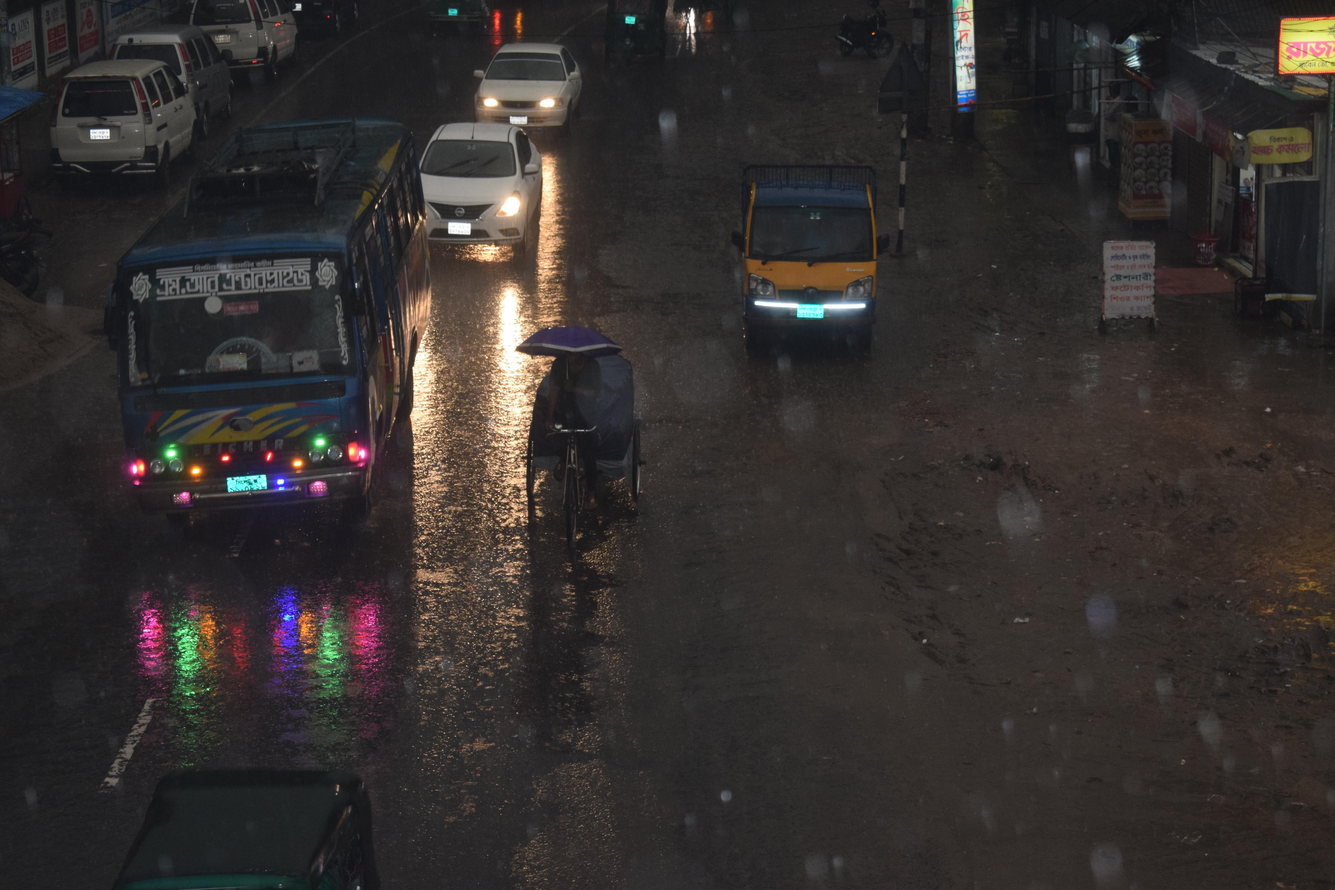Bus: (79, 104, 435, 580)
Car: (471, 296, 687, 613), (398, 93, 560, 288), (26, 44, 218, 193), (95, 14, 259, 142), (455, 35, 605, 157), (170, 0, 320, 83)
Truck: (683, 135, 928, 391)
